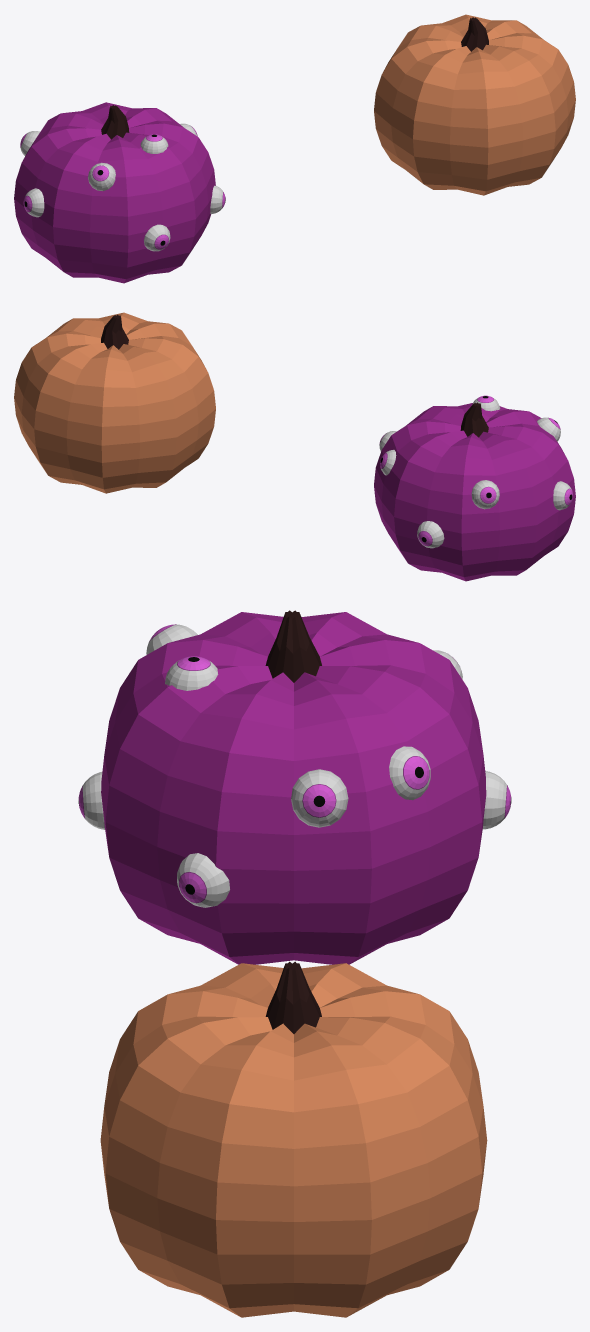
The model's file is Aboboras.fbx.
3 renders of one model, top to bottom at view 1: azimuth 30°, elevation 25°; view 2: azimuth 150°, elevation 25°; view 3: azimuth 270°, elevation 25°, orthographic. The views are drawn at different scales.
Visible parts, largest first — view 1: Abobora_Entropia, Abobora; view 2: Abobora_Entropia, Abobora; view 3: Abobora_Entropia, Abobora.
Boxes of the visible parts, bbox=[...] form: Abobora_Entropia: bbox=[14, 102, 225, 283]; Abobora: bbox=[374, 14, 575, 195]; Abobora_Entropia: bbox=[374, 395, 575, 581]; Abobora: bbox=[14, 312, 215, 493]; Abobora_Entropia: bbox=[78, 610, 511, 964]; Abobora: bbox=[100, 961, 487, 1317].
Size of the model in its own units: 608 by 166 by 212.
